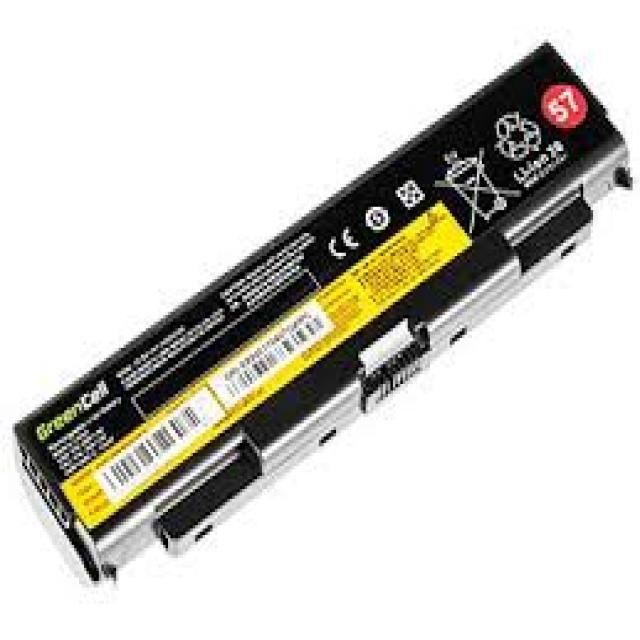battery: (18, 46, 635, 582)
